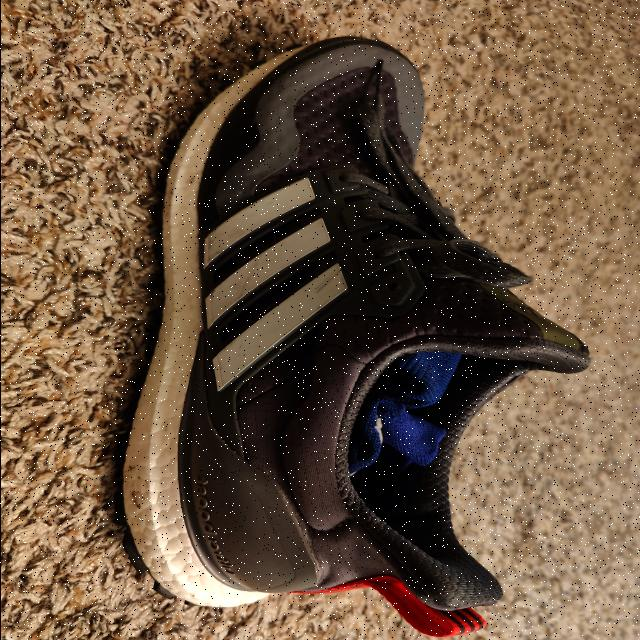black shoes: (146, 41, 556, 626)
